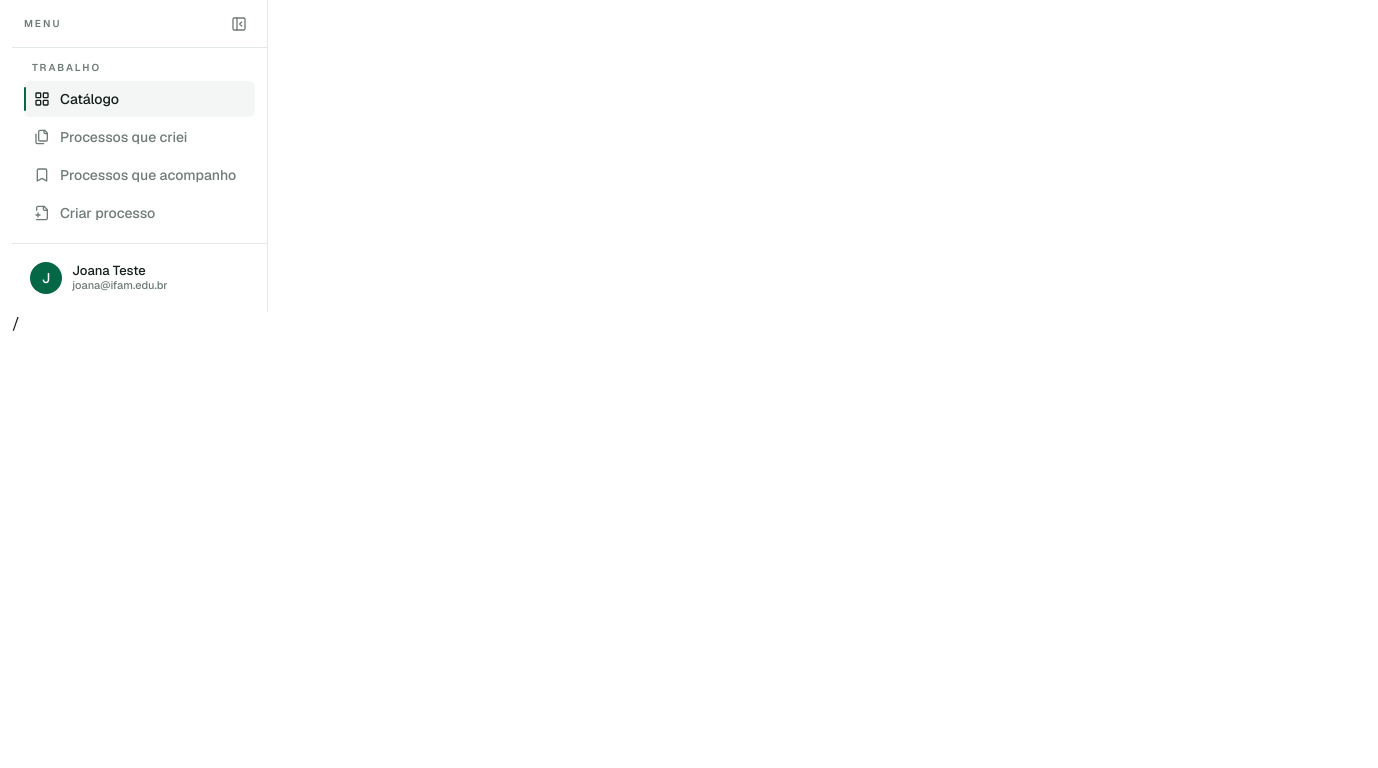
Test case: <Sidebar /> › clicar em Sair faz logout e mostra toast
The image size is (1378, 768).
Click the button with aria-label "Menu do usuário". click: (140, 278)
box: x1=24 y1=256 x2=255 y2=300
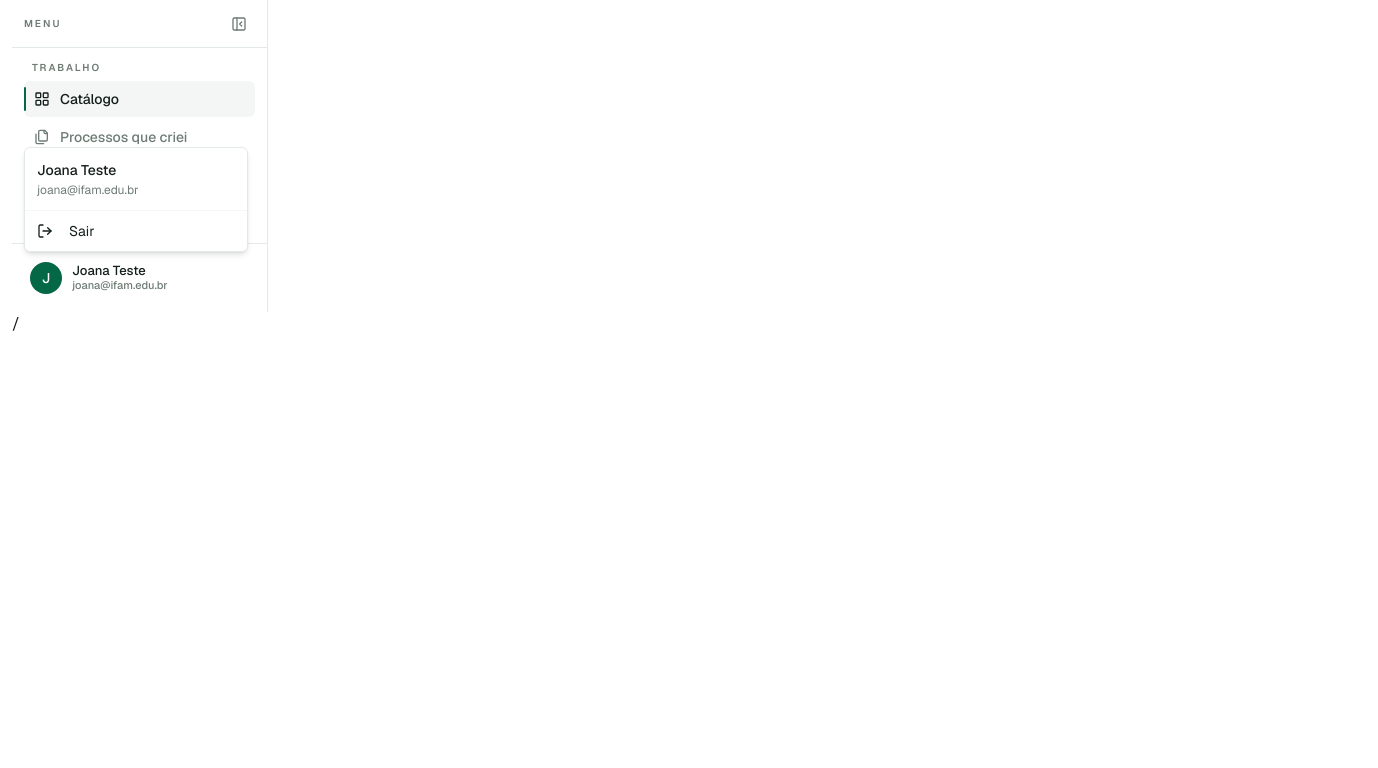
Click the menu item "Sair". click: (45, 231)
box: x1=37 y1=222 x2=94 y2=240
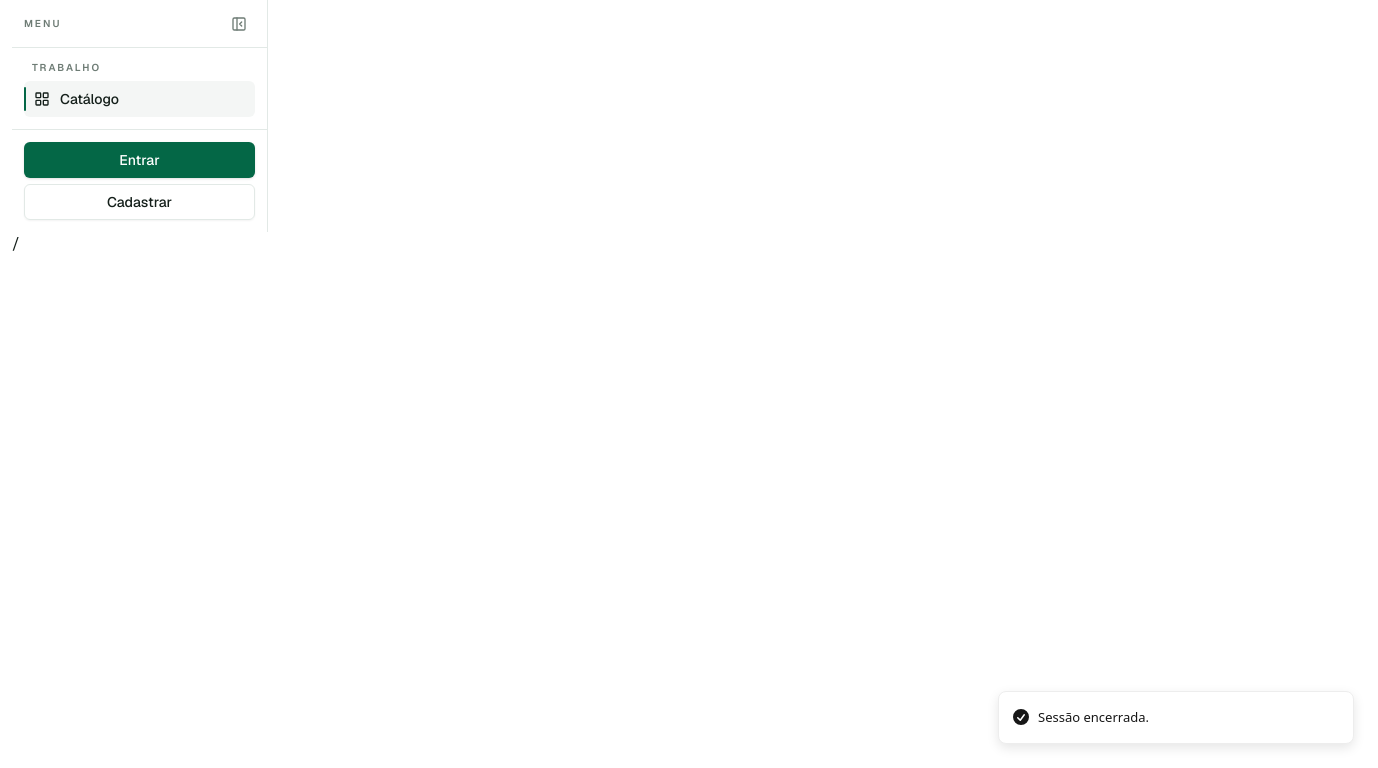
Expected: the text "Sessão encerrada." is shown, x1=1038 y1=708 x2=1149 y2=727
